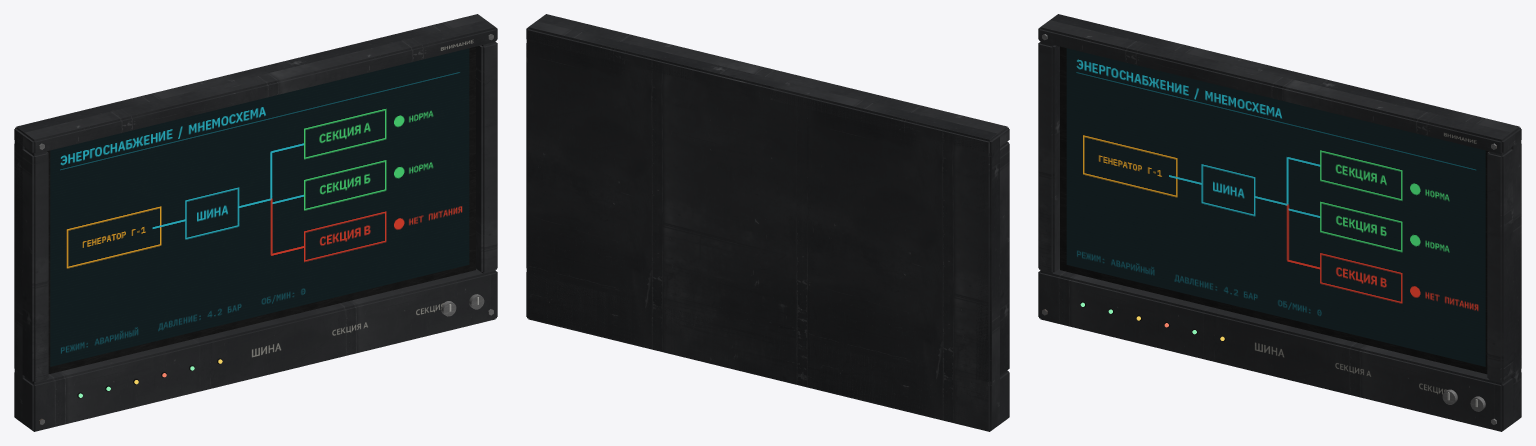
File: mnemonic_panel.gltf
3 renders of one model, left to right at view 1: azimuth 30°, elevation 25°; view 2: azimuth 150°, elevation 25°; view 3: azimuth 330°, elevation 25°, orthographic.
Parts seen in each view (by area): view 1: Screen, Body; view 2: Body; view 3: Screen, Body.
Part boxes in pixels (box(x1,y1,x2,y2)): Screen: box(50, 48, 469, 366); Body: box(14, 14, 497, 431); Body: box(526, 14, 1009, 431); Screen: box(1066, 48, 1485, 366); Body: box(1038, 14, 1521, 431).
Size of the model in its own units: 2 by 1.2 by 0.172.
Materials: 9 (5 with a texture image).
